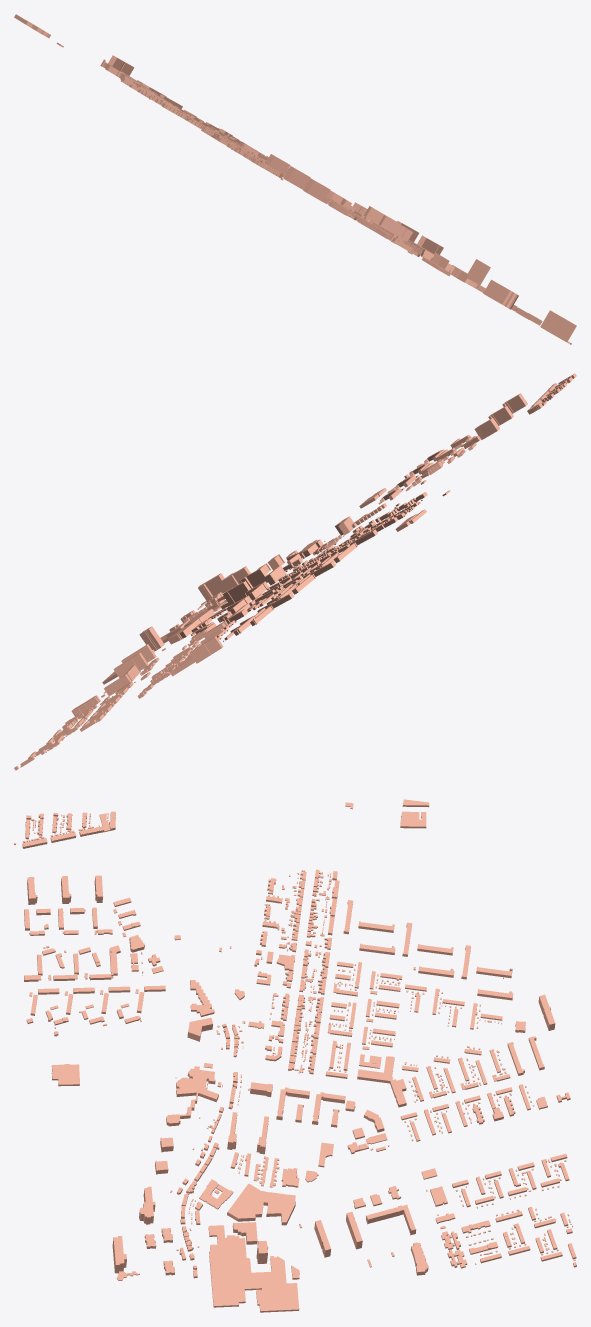
The picture shows the model from 3 angles, top to bottom: view 1: azimuth 30°, elevation 25°; view 2: azimuth 150°, elevation 25°; view 3: azimuth 270°, elevation 25°; orthographic projection. The views are drawn at different scales.
Size of the model in its own units: 1045 by 802 by 1277.
